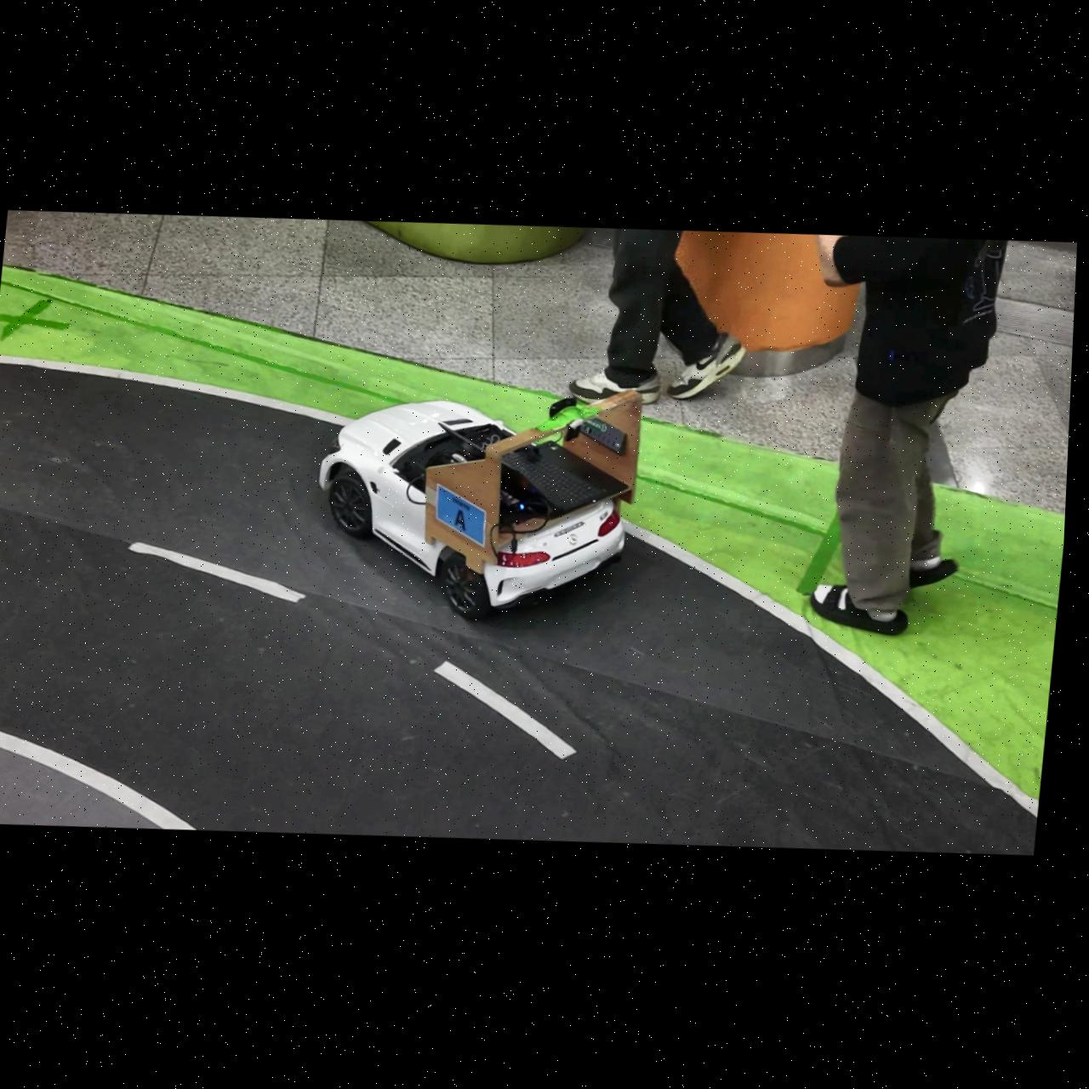broken_line: (433, 660, 577, 759), (127, 541, 306, 603)
